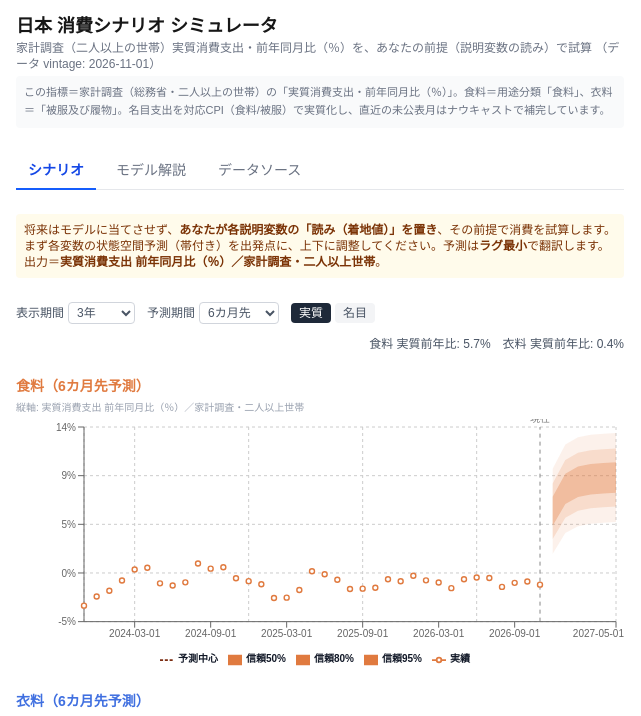
Scenario: Simulator interactions › toggles between real and nominal when household series are present
Expected: the text with test id "food-next" shows "実質", [397, 337, 421, 351]
Click the button "名目": click(355, 313) [335, 303, 375, 323]
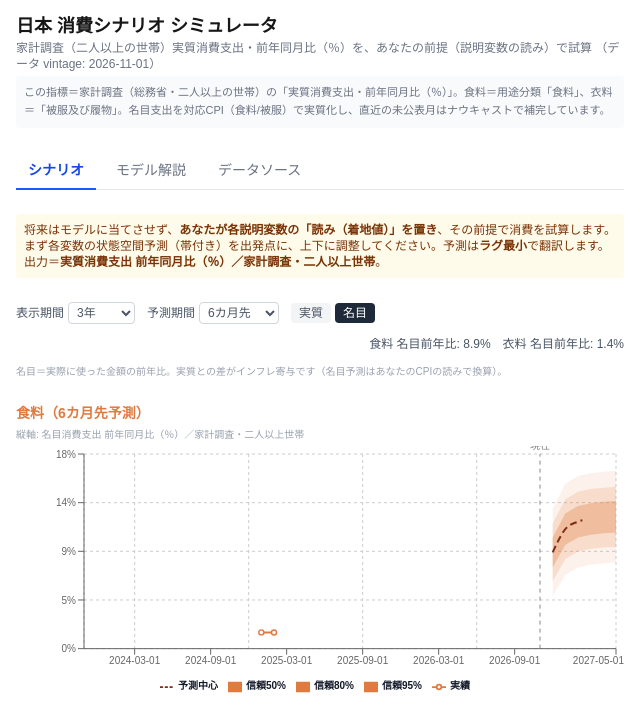
Expected: the text with test id "food-next" shows "名目", [397, 337, 421, 351]
